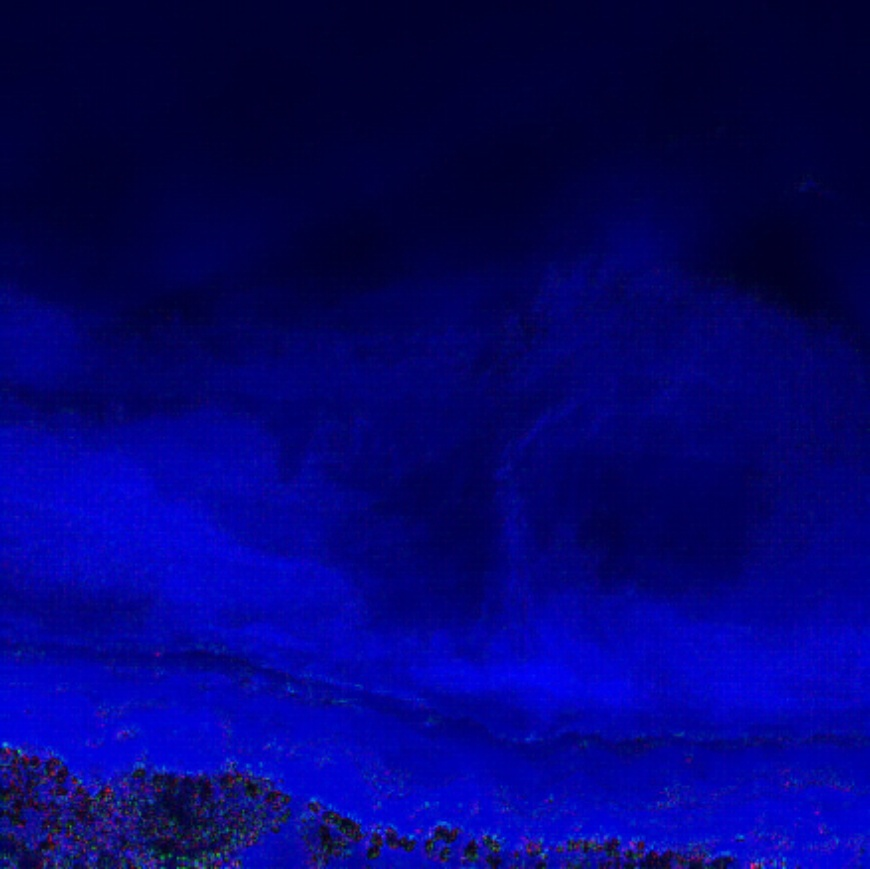rip_current: (233, 310, 559, 662)
